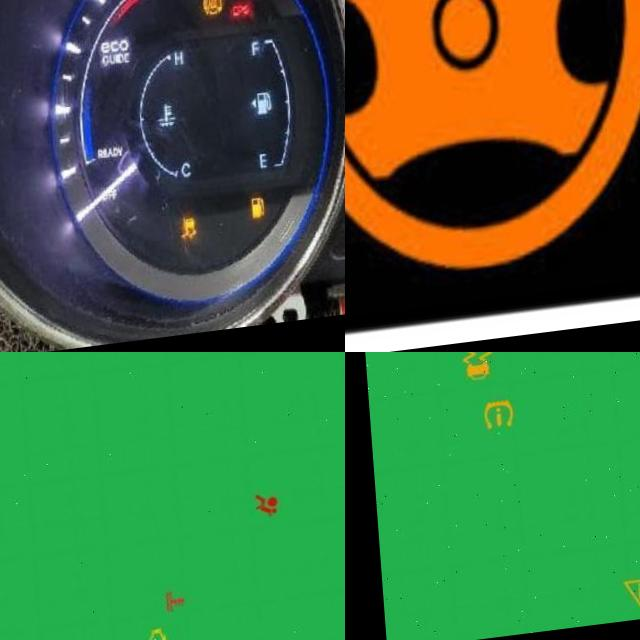Electronic Power Steering: (345, 0, 640, 292)
